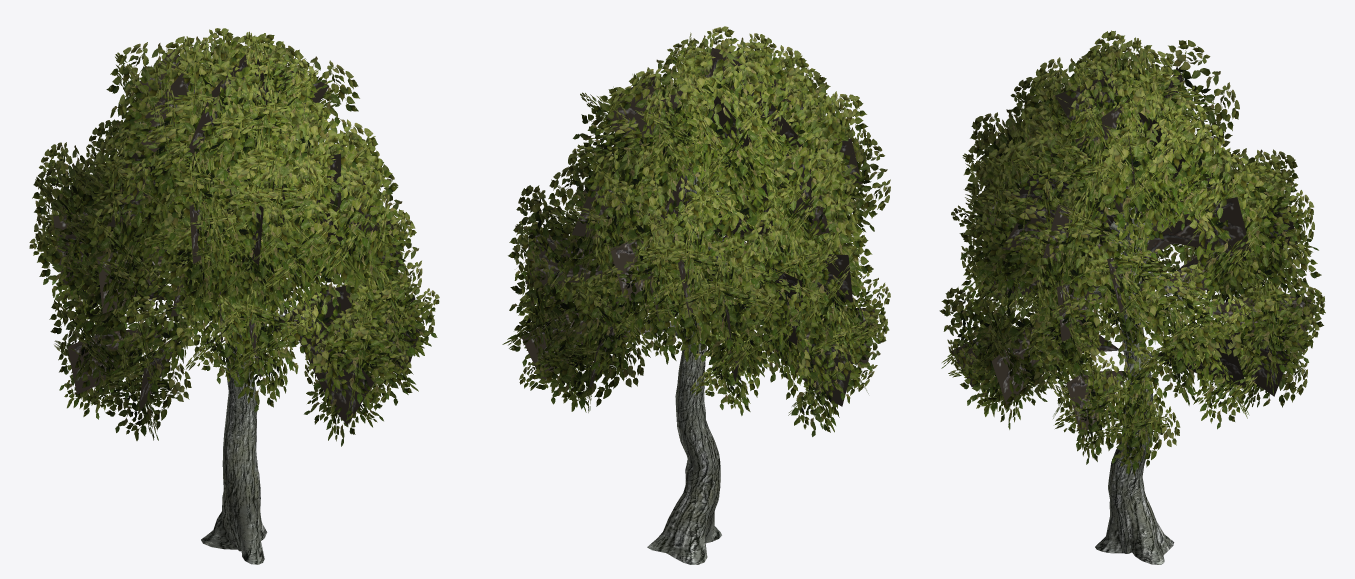
The model's file is tree01.fbx.
The picture shows the model from 3 angles, left to right: view 1: azimuth 30°, elevation 25°; view 2: azimuth 150°, elevation 25°; view 3: azimuth 270°, elevation 25°; orthographic projection. The views are drawn at different scales.
Parts seen in each view (by area): view 1: tree01_LOD0; view 2: tree01_LOD0; view 3: tree01_LOD0.
Part boxes in pixels (x1,y1,x2,y2): tree01_LOD0: (29,28,439,564); tree01_LOD0: (502,26,890,564); tree01_LOD0: (939,30,1325,564).
Size of what is drawn, in the model's own units: 448 by 462 by 627.
